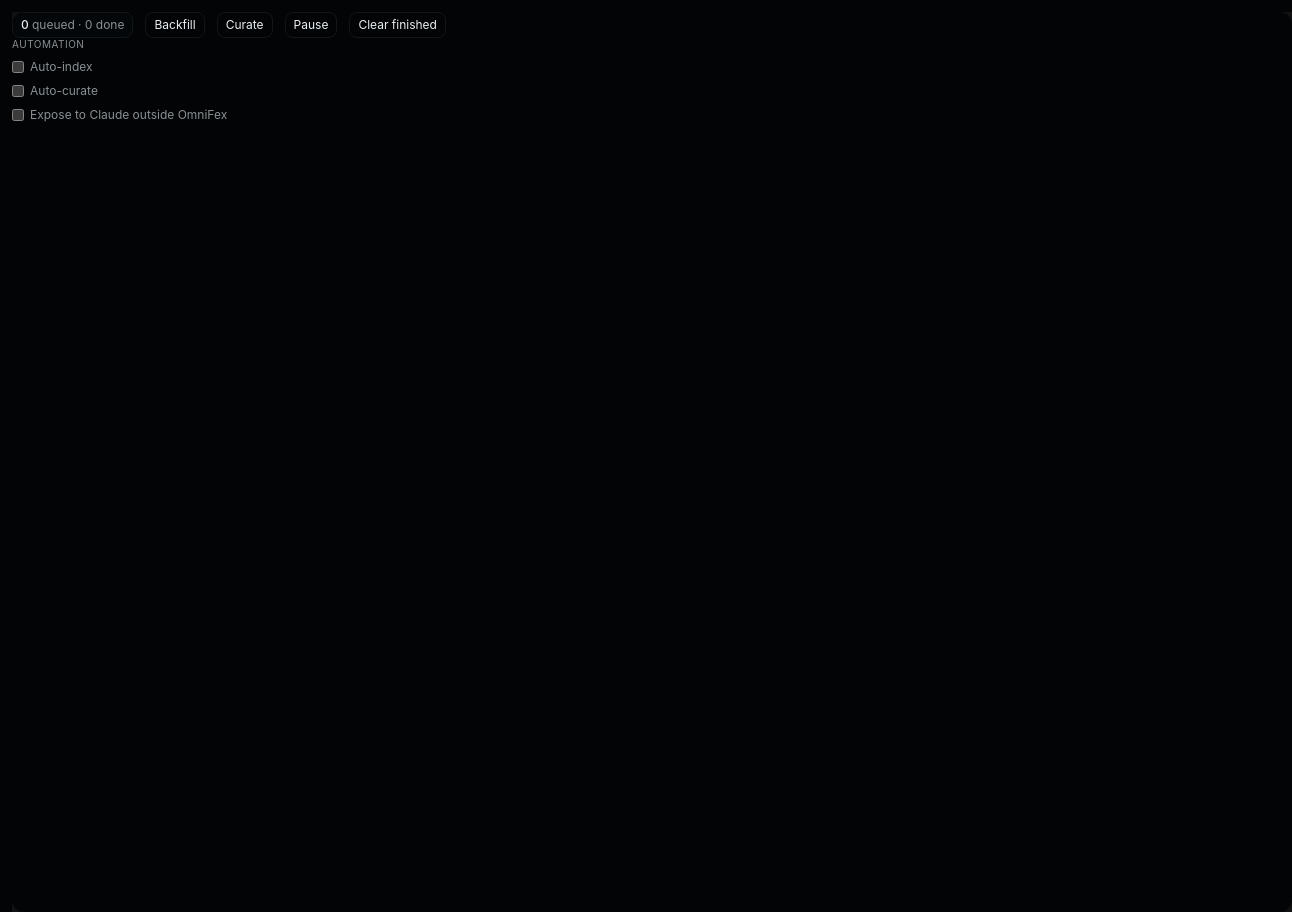
it: BrainQueuePanel › expose to Claude outside OmniFex › surfaces a failure and leaves the switch unflipped
This screenshot has width=1292, height=912.
Click the checkbox labelled "Expose to Claude outside OmniFex": x=18, y=115 [12,109,24,121]
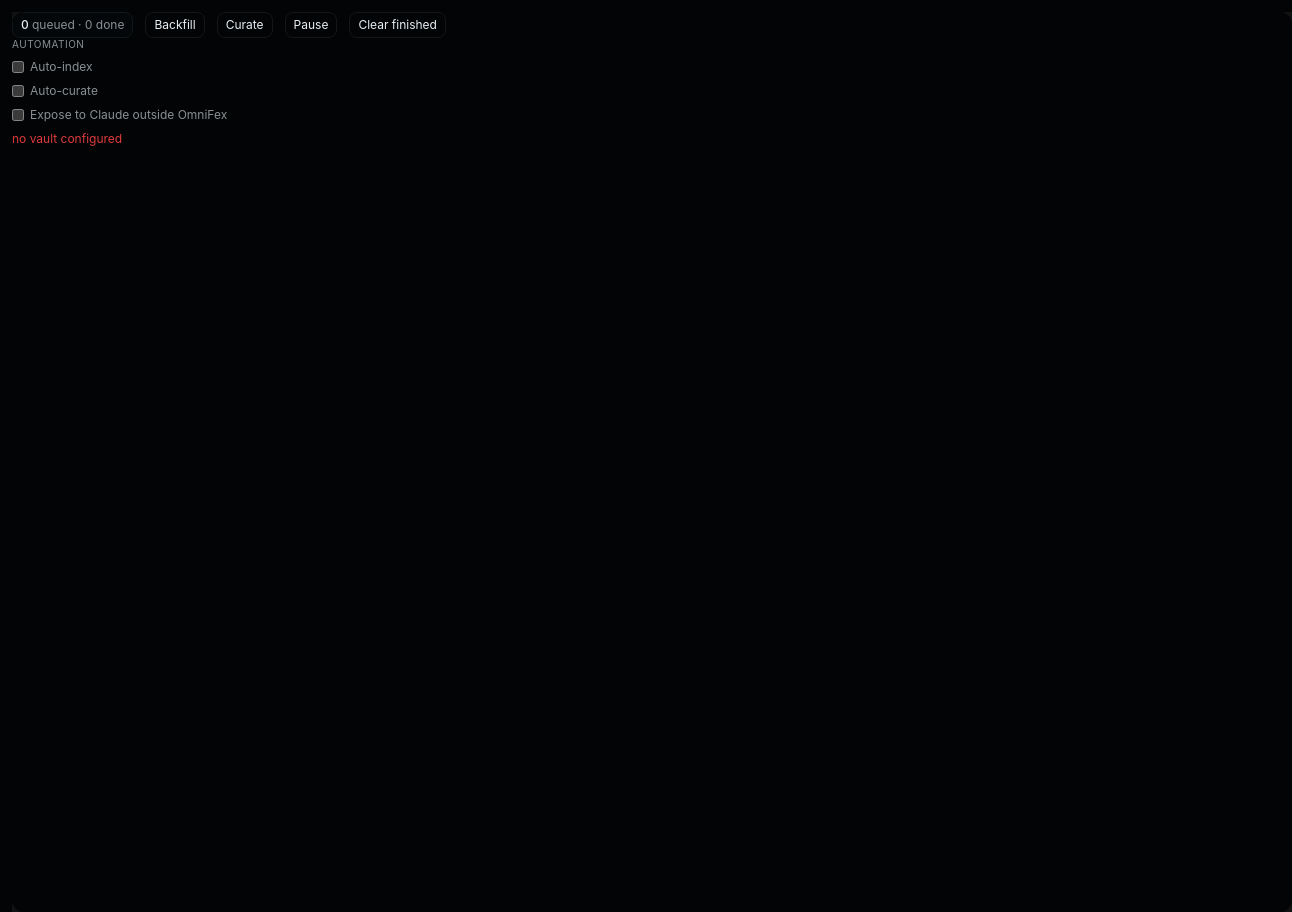
Result: the text "no vault configured" is shown at [12,131,122,146]
